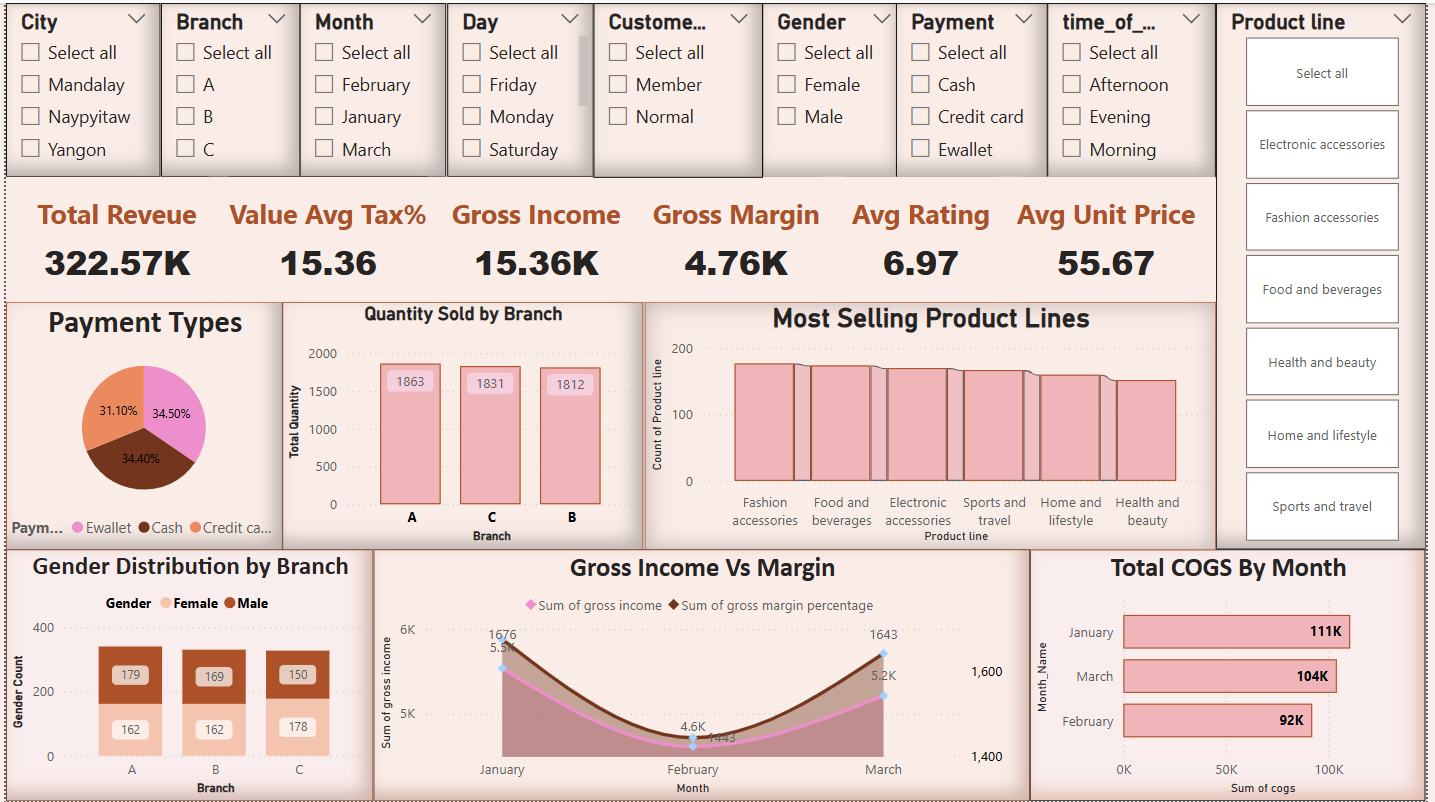

The dashboard page shown, as its layout file describes it:
{"tool":"powerbi","page":{"name":"Page 1","canvas":[1280,720],"ordinal":0},"visuals":[{"type":"slicer","title":"Total Unique Cities","fields":{"Values":["Walmart_Sales_Data_correct.Branch"]},"box":[139.4,0,126,156.5],"z":0},{"type":"slicer","title":"Total Unique Cities","fields":{"Values":["Walmart_Sales_Data_correct.City"]},"box":[0,0,139.4,156.5],"z":1000},{"type":"slicer","title":"Total Unique Cities","fields":{"Values":["Walmart_Sales_Data_correct.Gender"]},"box":[682.3,0,129.6,157.7],"z":2000},{"type":"slicer","title":"Total Unique Cities","fields":{"Values":["Walmart_Sales_Data_correct.Product line"]},"box":[1101.8,0,178.5,492.8],"z":3000},{"type":"slicer","title":"Total Unique Cities","fields":{"Values":["Walmart_Sales_Data_correct.Payment"]},"box":[802.2,0,137,157.7],"z":4000},{"type":"slicer","title":"Total Unique Cities","fields":{"Values":["Walmart_Sales_Data_correct.Month_Name"]},"box":[265.4,0,132.1,156.5],"z":5000},{"type":"slicer","title":"Total Unique Cities","fields":{"Values":["Walmart_Sales_Data_correct.Day Name"]},"box":[397.4,0,132.1,156.5],"z":6000},{"type":"slicer","title":"Total Unique Cities","fields":{"Values":["Walmart_Sales_Data_correct.time_of_day"]},"box":[939.1,0,151.6,157.7],"z":7000},{"type":"barChart","title":"Total COGS By Month","fields":{"Category":["Walmart_Sales_Data_correct.Month_Name"],"Y":["Sum(Walmart_Sales_Data_correct.cogs)"]},"box":[923.2,492.8,357.1,227.4],"z":8000},{"type":"pieChart","title":"Payment Types","fields":{"Category":["Walmart_Sales_Data_correct.Payment"],"Y":["CountNonNull(Walmart_Sales_Data_correct.Payment)"]},"box":[0,269,249.5,223.8],"z":9000},{"type":"columnChart","title":"Most Selling Product Lines","fields":{"Category":["Walmart_Sales_Data_correct.Product line"],"Y":["CountNonNull(Walmart_Sales_Data_correct.Product line)"]},"box":[576,269,527,223.8],"z":10000},{"type":"cardVisual","fields":{"Data":["Sum(Walmart_Sales_Data_correct.Total)"]},"box":[0,156.5,200.5,112.5],"z":11000},{"type":"lineClusteredColumnComboChart","title":"Quantity Sold by Branch","fields":{"Category":["Walmart_Sales_Data_correct.Branch"],"Y":["Sum(Walmart_Sales_Data_correct.Quantity)"]},"box":[249.5,269,325.3,223.8],"z":12000},{"type":"cardVisual","fields":{"Data":["Sum(Walmart_Sales_Data_correct.gross income)"]},"box":[381.5,156.5,194.4,112.5],"z":13000},{"type":"cardVisual","fields":{"Data":["Sum(Walmart_Sales_Data_correct.gross margin percentage)"]},"box":[561.3,156.5,194.4,112.5],"z":14000},{"type":"lineStackedColumnComboChart","title":"Gender Distribution by Branch ","fields":{"Category":["Walmart_Sales_Data_correct.Branch"],"Y":["CountNonNull(Walmart_Sales_Data_correct.Gender)"],"Series":["Walmart_Sales_Data_correct.Gender"]},"box":[0,492.8,331.4,227.4],"z":15000},{"type":"slicer","title":"Total Unique Cities","fields":{"Values":["Walmart_Sales_Data_correct.Customer type"]},"box":[529.5,0,152.9,156.5],"z":16000},{"type":"cardVisual","fields":{"Data":["Avg(Walmart_Sales_Data_correct.Rating)"]},"box":[734.9,156.5,181,112.5],"z":17000},{"type":"cardVisual","fields":{"Data":["Avg(Walmart_Sales_Data_correct.Unit price)"]},"box":[893.9,156.5,196.9,112.5],"z":18000},{"type":"cardVisual","fields":{"Data":["Avg(Walmart_Sales_Data_correct.Tax%)"]},"box":[183.4,156.5,214,112.5],"z":19000},{"type":"kpi","fields":{"Indicator":["Sum(Walmart_Sales_Data_correct.Total)"],"TrendLine":["Walmart_Sales_Data_correct.Date.Variation.Date Hierarchy.Month"],"Goal":["Walmart_Sales_Data_correct.Target"]},"box":[529.5,508.7,150.4,108.8],"z":20000},{"type":"areaChart","title":"Gross Income Vs Margin","fields":{"Category":["Walmart_Sales_Data_correct.Date.Variation.Date Hierarchy.Month","Walmart_Sales_Data_correct.Date.Variation.Date Hierarchy.Day"],"Y":["Sum(Walmart_Sales_Data_correct.gross income)"],"Y2":["Sum(Walmart_Sales_Data_correct.gross margin percentage)"]},"box":[331.4,492.8,591.9,227.4],"z":21000}]}

Visuals, with their boxes in screenshot pixels (x1, y1, x2, y2), scaled from the page's 1280x720 canvas onto the 1435x802 screenshot:
"Total Unique Cities" slicer: (156,0,298,174)
"Total Unique Cities" slicer: (0,0,156,174)
"Total Unique Cities" slicer: (765,0,910,176)
"Total Unique Cities" slicer: (1235,0,1434,549)
"Total Unique Cities" slicer: (899,0,1053,176)
"Total Unique Cities" slicer: (298,0,446,174)
"Total Unique Cities" slicer: (446,0,594,174)
"Total Unique Cities" slicer: (1053,0,1223,176)
"Total COGS By Month" barChart: (1035,549,1434,801)
"Payment Types" pieChart: (0,300,280,549)
"Most Selling Product Lines" columnChart: (646,300,1237,549)
cardVisual - Sum(Walmart_Sales_Data_correct.Total): (0,174,225,300)
"Quantity Sold by Branch" lineClusteredColumnComboChart: (280,300,644,549)
cardVisual - Sum(Walmart_Sales_Data_correct.gross income): (428,174,646,300)
cardVisual - Sum(Walmart_Sales_Data_correct.gross margin percentage): (629,174,847,300)
"Gender Distribution by Branch " lineStackedColumnComboChart: (0,549,372,801)
"Total Unique Cities" slicer: (594,0,765,174)
cardVisual - Avg(Walmart_Sales_Data_correct.Rating): (824,174,1027,300)
cardVisual - Avg(Walmart_Sales_Data_correct.Unit price): (1002,174,1223,300)
cardVisual - Avg(Walmart_Sales_Data_correct.Tax%): (206,174,446,300)
kpi - Sum(Walmart_Sales_Data_correct.Total) x Walmart_Sales_Data_correct.Date.Variation.Date Hierarchy.Month: (594,567,762,688)
"Gross Income Vs Margin" areaChart: (372,549,1035,801)
